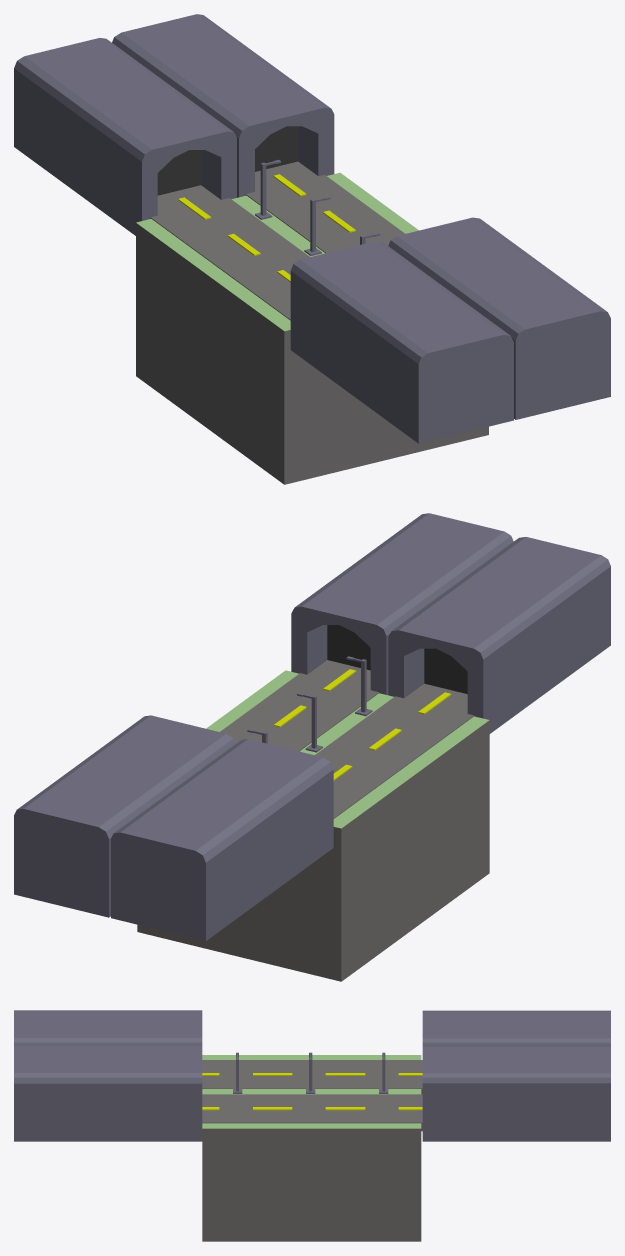
The model's file is WorldChunk.fbx.
The picture shows the model from 3 angles, top to bottom: view 1: azimuth 30°, elevation 25°; view 2: azimuth 150°, elevation 25°; view 3: azimuth 270°, elevation 25°; orthographic projection. The views are drawn at different scales.
Visible parts, largest first — view 1: WorldChunk; view 2: WorldChunk; view 3: WorldChunk.
Boxes of the visible parts, x1=… form: WorldChunk: x1=14, y1=14, x2=610, y2=484; WorldChunk: x1=14, y1=513, x2=610, y2=981; WorldChunk: x1=14, y1=1010, x2=610, y2=1241.
Bounding box in the file's own units: 3694 × 3822 × 12685.
